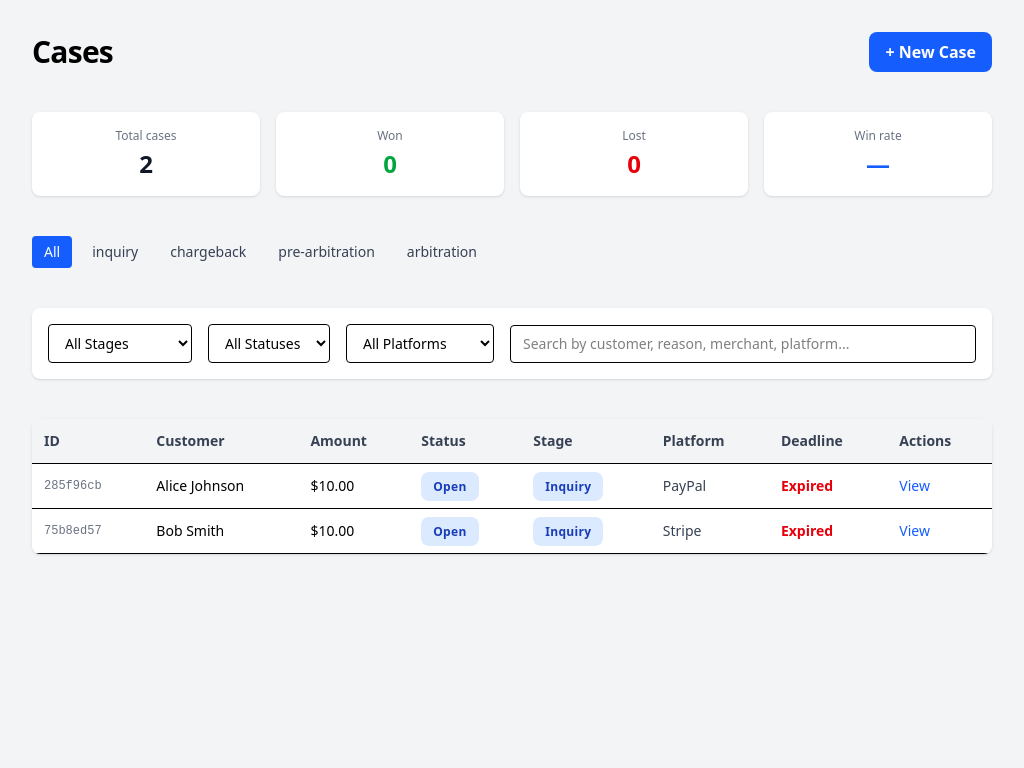
Test: Dashboard › filters by platform via the platform dropdown
The image size is (1024, 768).
Select "PayPal" in the 3rd dropdown showing "All Platforms" at coordinates (420, 344), box [346,324,494,363]
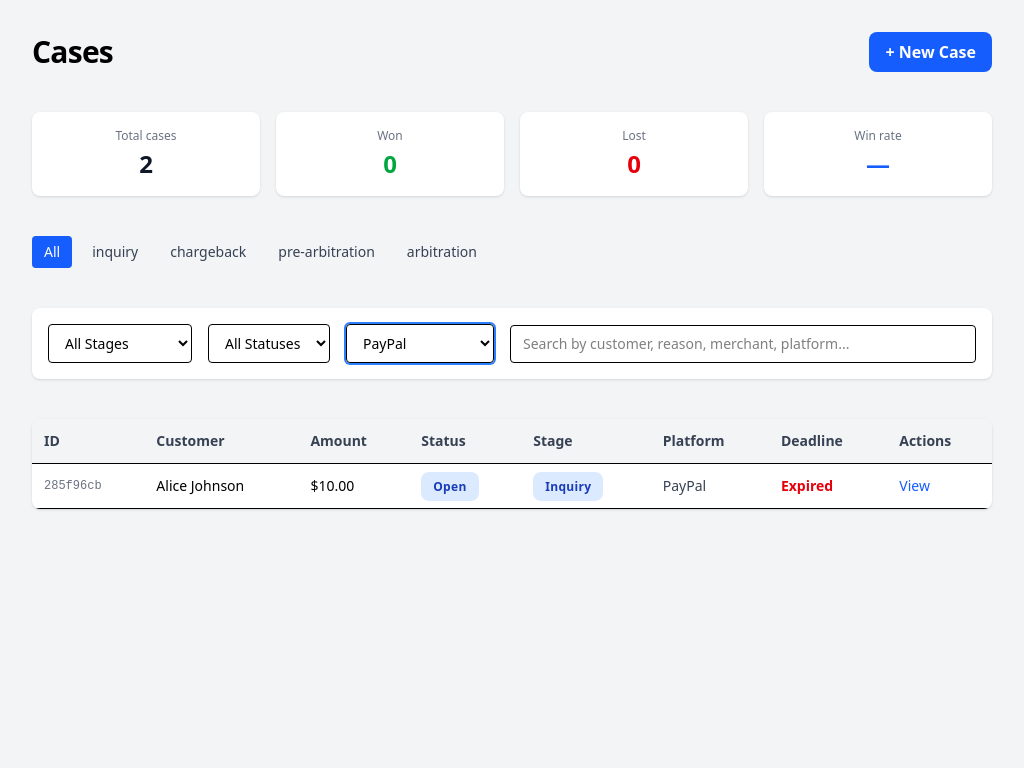
Check: the text "Alice Johnson" is shown, box [144,464,298,508]
Check: the text "Bob Smith" is gone
